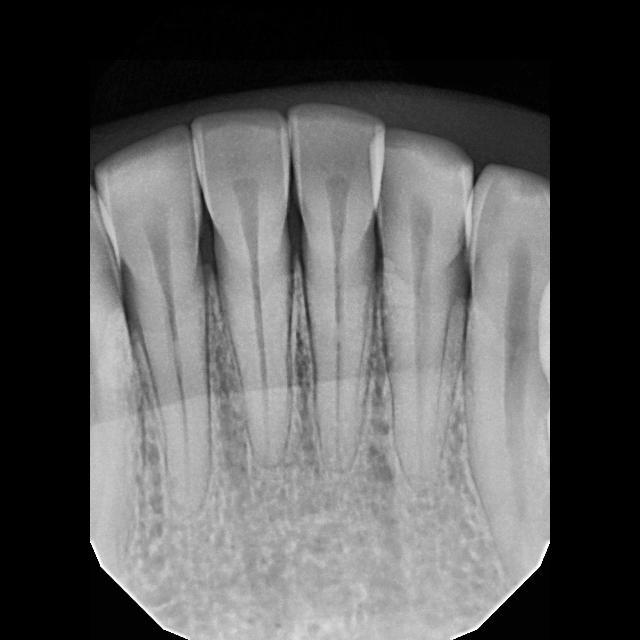tooth: (96, 127, 209, 507), (192, 112, 290, 466), (289, 106, 383, 470), (381, 130, 472, 485)
